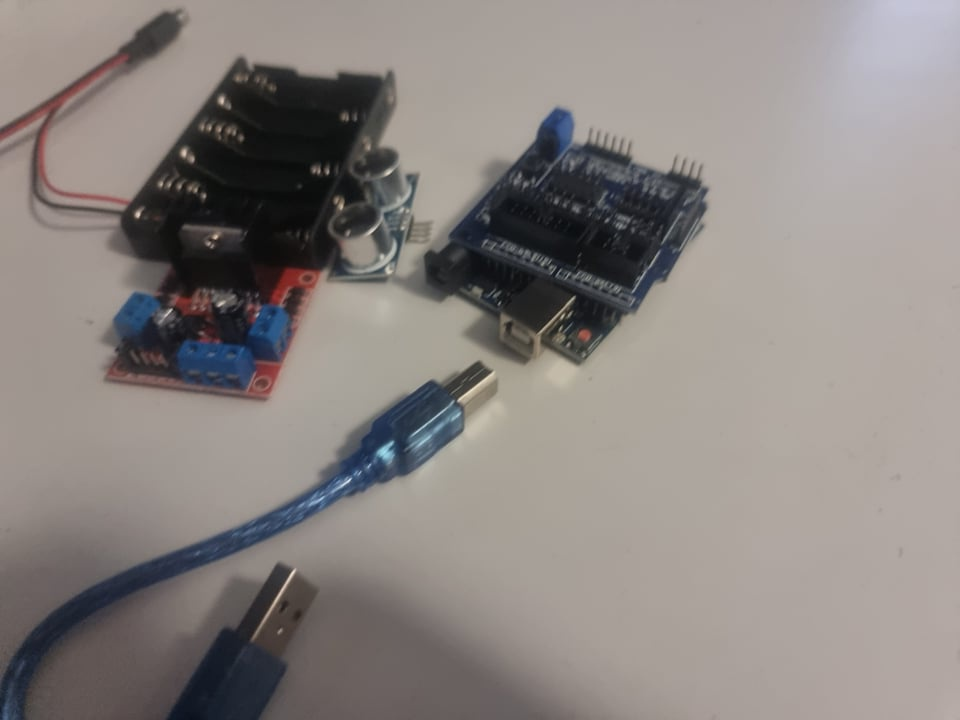5V EXPANSION: (460, 110, 709, 296)
BATTERY BOX: (116, 51, 399, 251)
MOTOR: (104, 214, 315, 406)
SENSOR: (332, 144, 412, 283)
UNO R3: (416, 249, 611, 364)
